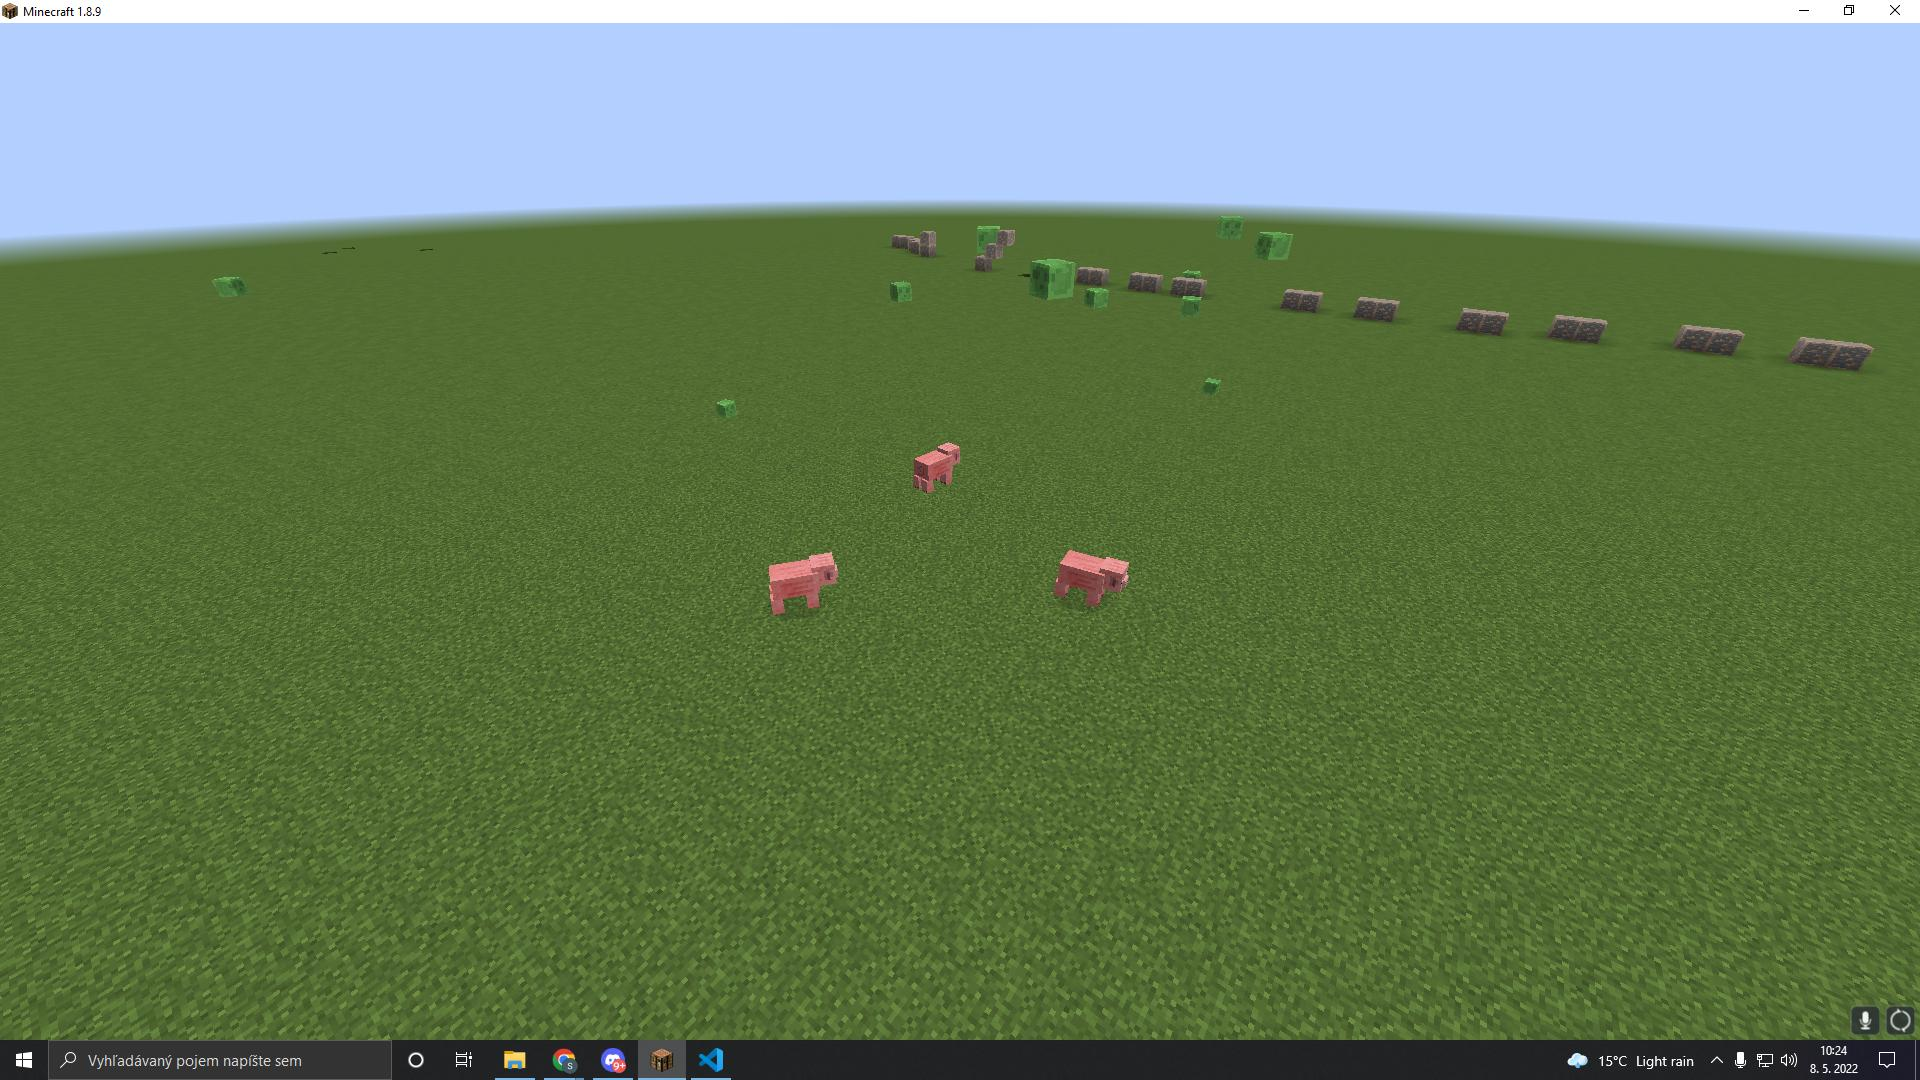pig: (1042, 539, 1137, 621), (756, 545, 849, 626), (901, 436, 969, 497)
